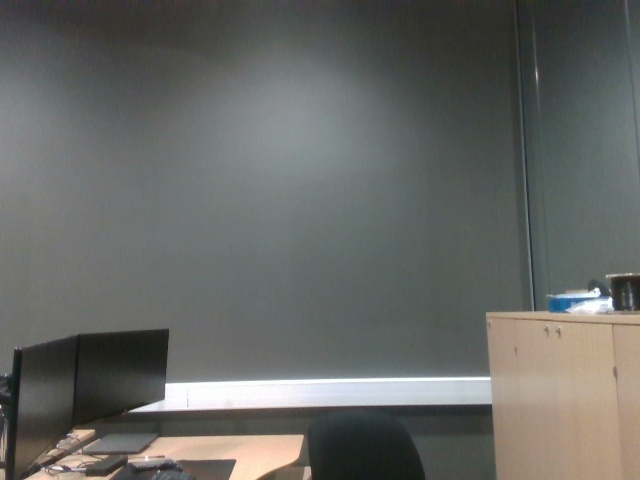alfa: (490, 284, 548, 357)
